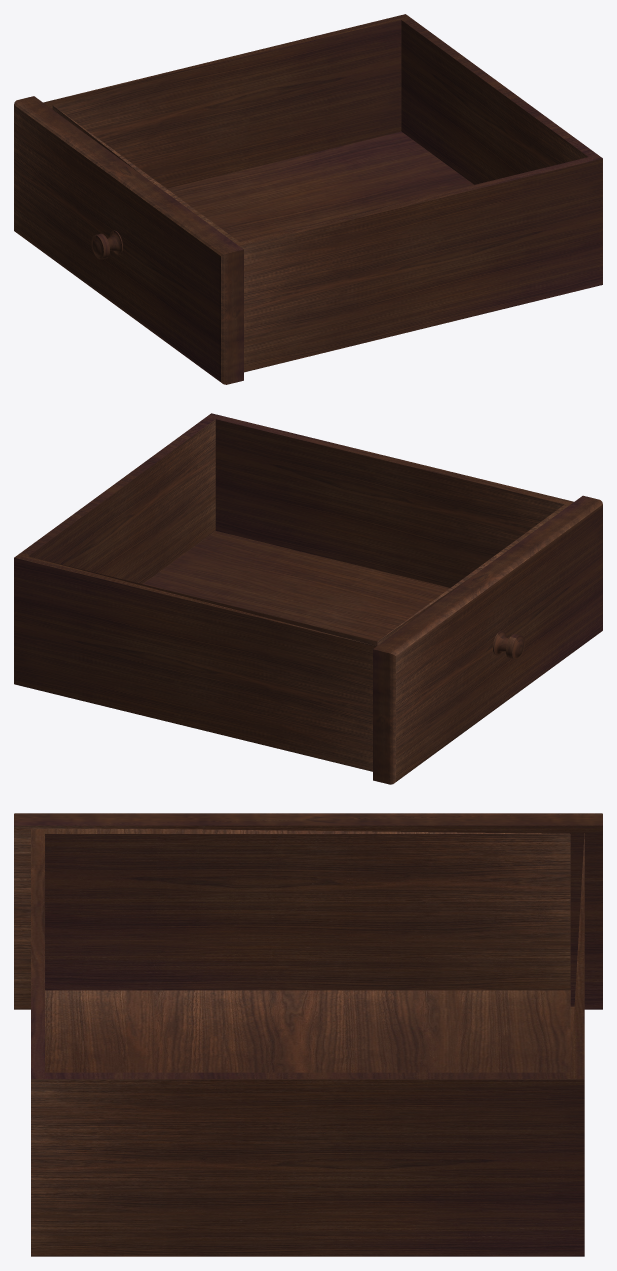
Rendered from drawer.obj.
3 renders of one model, top to bottom at view 1: azimuth 30°, elevation 25°; view 2: azimuth 150°, elevation 25°; view 3: azimuth 270°, elevation 25°, orthographic. The views are drawn at different scales.
Visible parts, largest first — view 1: polySurface10Drawer, polySurface11DrawerpCube4; view 2: polySurface10Drawer, polySurface11DrawerpCube4; view 3: polySurface10Drawer, polySurface11DrawerpCube4.
Part boxes in pixels (x1,y1,x2,y2): polySurface10Drawer: [43, 14, 602, 372]; polySurface11DrawerpCube4: [14, 96, 243, 384]; polySurface10Drawer: [14, 413, 573, 771]; polySurface11DrawerpCube4: [373, 495, 602, 784]; polySurface10Drawer: [31, 829, 584, 1256]; polySurface11DrawerpCube4: [14, 813, 602, 1009].
Size of the model in its own units: 3.26 by 1 by 2.9.
